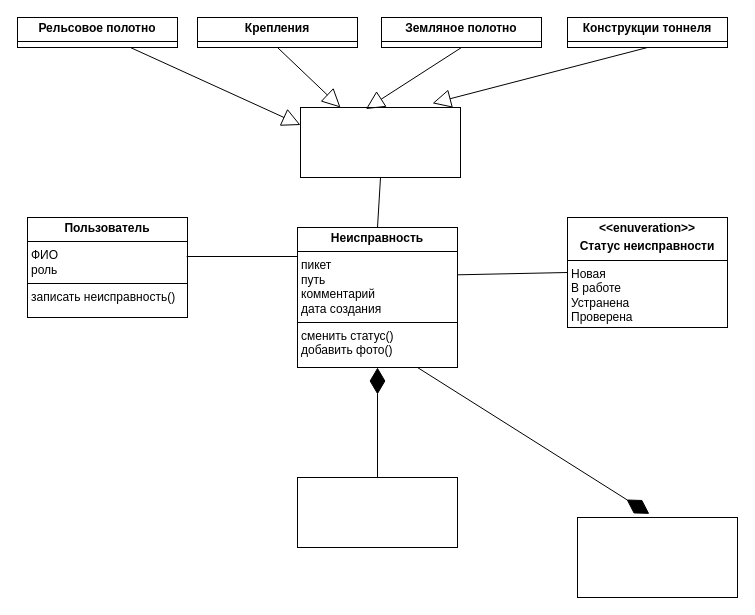
This 755x615 diagram has some shape labels left out. Each missing label, with the box of its shape:
Тип неисправности название: (300, 106, 460, 178)
Участок адрес начальный пикет конечный пикет: (576, 516, 738, 598)
Фото путь дата/время: (296, 476, 458, 548)
